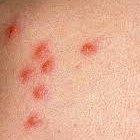Fleas: (19, 110, 46, 137), (0, 21, 23, 46), (78, 39, 99, 60), (33, 41, 46, 61), (20, 67, 32, 84), (33, 85, 47, 99), (41, 61, 52, 73)
